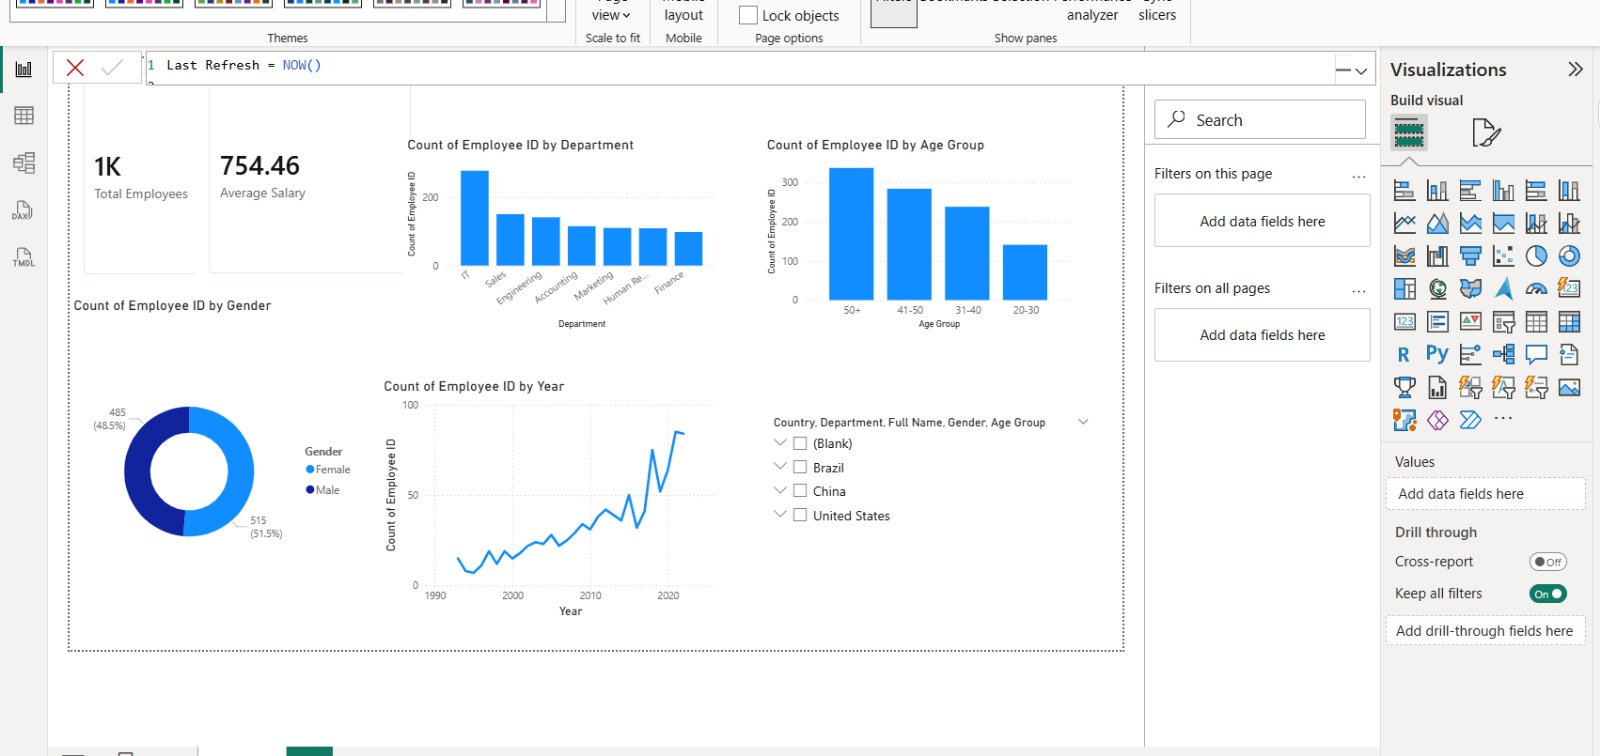

The page's visual inventory and layout, read from the dashboard file:
{"tool":"powerbi","page":{"name":"Page 1","canvas":[1280,720],"ordinal":0},"visuals":[{"type":"cardVisual","fields":{"Data":["Employee Data.Total Employees"]},"box":[0,0,280,280],"z":0},{"type":"cardVisual","fields":{"Data":["Employee Data.Average Salary"]},"box":[152.3,0,279.9,279.9],"z":1000},{"type":"donutChart","fields":{"Y":["CountNonNull(Employee Data.Employee ID)"],"Category":["Employee Data.Gender","Employee Data.Department"]},"box":[0,290,357.1,407.1],"z":2000},{"type":"clusteredColumnChart","fields":{"Category":["Employee Data.Department"],"Y":["CountNonNull(Employee Data.Employee ID)"]},"box":[405.7,94.3,387.1,240],"z":3000},{"type":"clusteredColumnChart","fields":{"Y":["CountNonNull(Employee Data.Employee ID)"],"Category":["Employee Data.Age Group"]},"box":[842.9,94.3,381.4,240],"z":4000},{"type":"lineChart","fields":{"Y":["CountNonNull(Employee Data.Employee ID)"],"Category":["Employee Data.Year"]},"box":[377.1,388.6,415.7,297.1],"z":5000},{"type":"slicer","fields":{"Values":["Employee Data.Country","Employee Data.Department","Employee Data.Full Name","Employee Data.Gender","Employee Data.Age Group"]},"box":[842.9,430,408.6,267.1],"z":6000}]}

Visuals, with their boxes on the page's 1280x720 design canvas (x1, y1, x2, y2). These are canvas units, not pixel positions in the 1600x756 screenshot, which may show the page scaled, cropped or inside an application window:
cardVisual - Employee Data.Total Employees: detection(0, 0, 280, 280)
cardVisual - Employee Data.Average Salary: detection(152, 0, 432, 280)
donutChart - CountNonNull(Employee Data.Employee ID) x Employee Data.Gender: detection(0, 290, 357, 697)
clusteredColumnChart - Employee Data.Department x CountNonNull(Employee Data.Employee ID): detection(406, 94, 793, 334)
clusteredColumnChart - CountNonNull(Employee Data.Employee ID) x Employee Data.Age Group: detection(843, 94, 1224, 334)
lineChart - CountNonNull(Employee Data.Employee ID) x Employee Data.Year: detection(377, 389, 793, 686)
slicer - Employee Data.Country x Employee Data.Department: detection(843, 430, 1252, 697)
